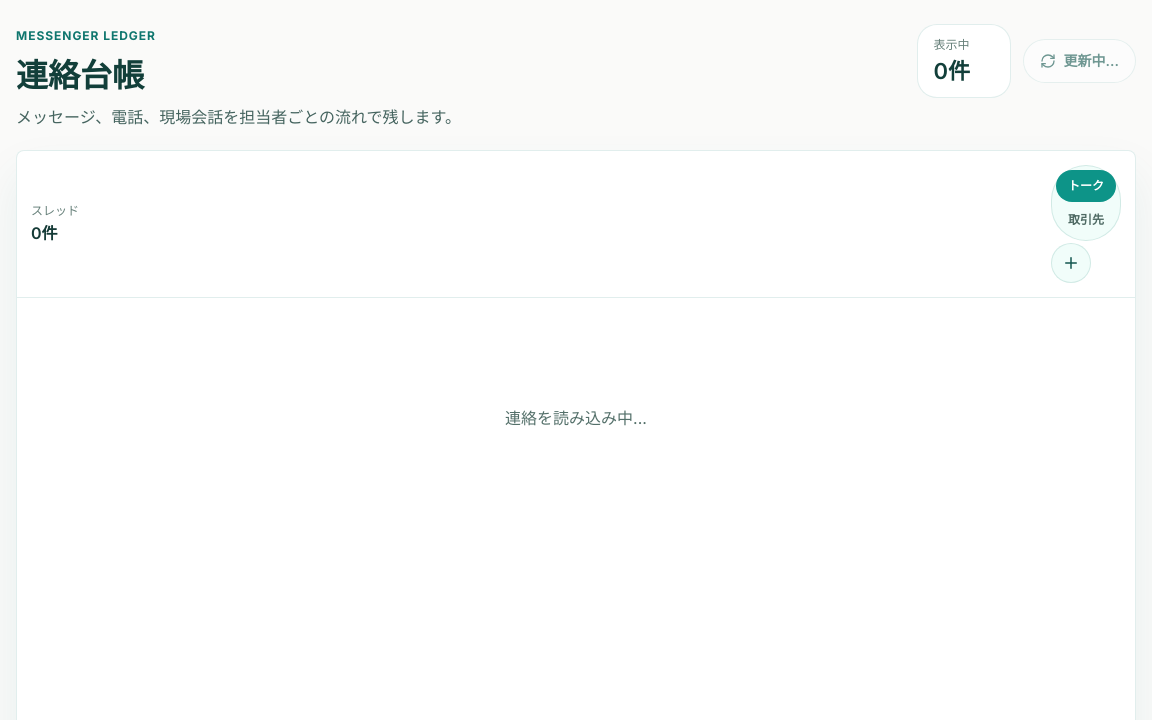
Test: Communications page › shows multiple people for the same registered client
Click the tab "取引先" at x=1086, y=220, box [1056, 204, 1116, 236]
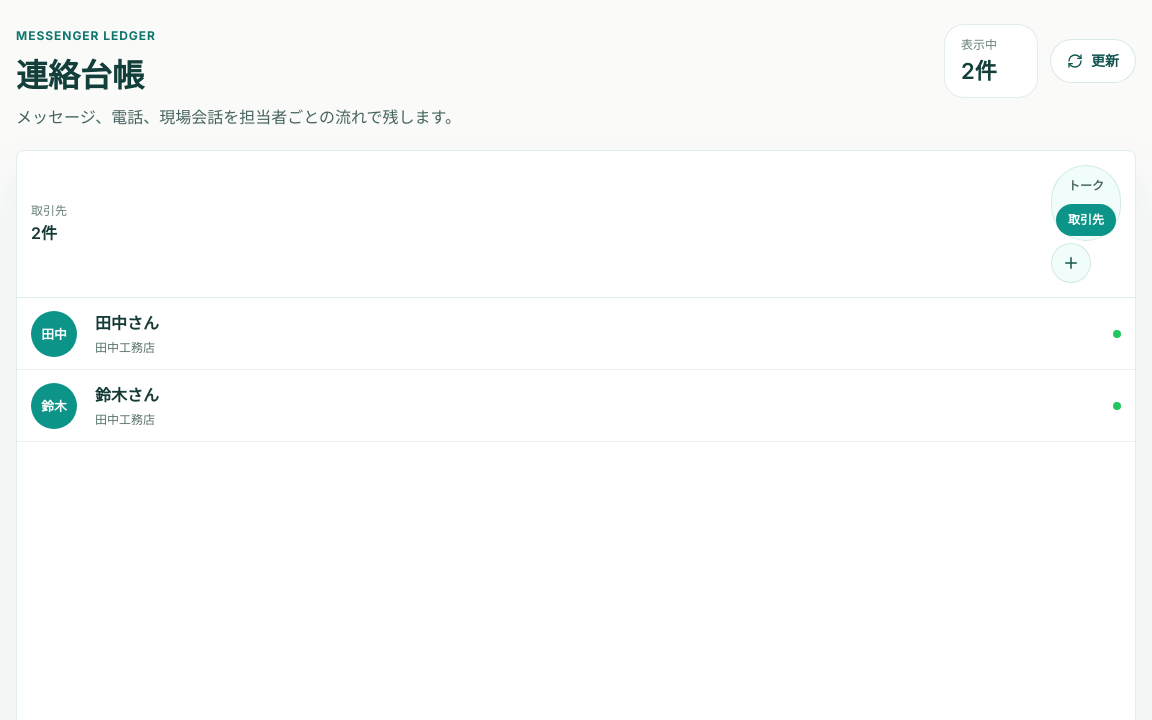
Expected: the button "田中 田中さん 田中工務店" is shown, [17, 298, 1135, 370]
Expected: the button "鈴木 鈴木さん 田中工務店" is shown, [17, 370, 1135, 442]
